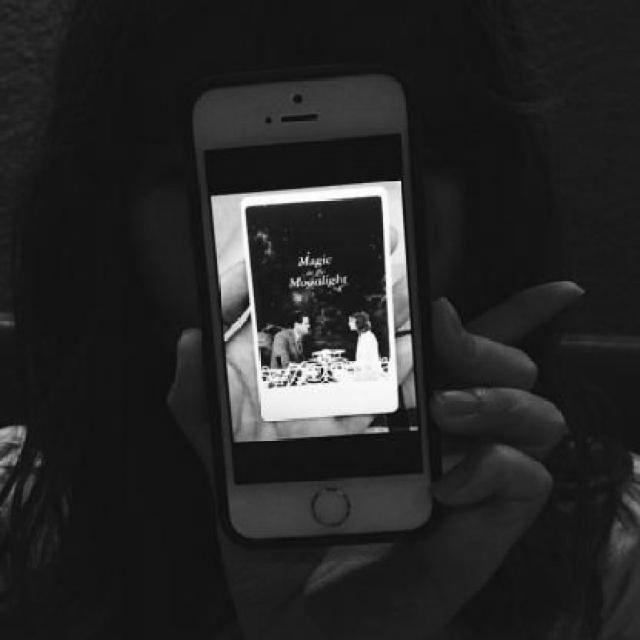fake: (185, 66, 447, 546)
